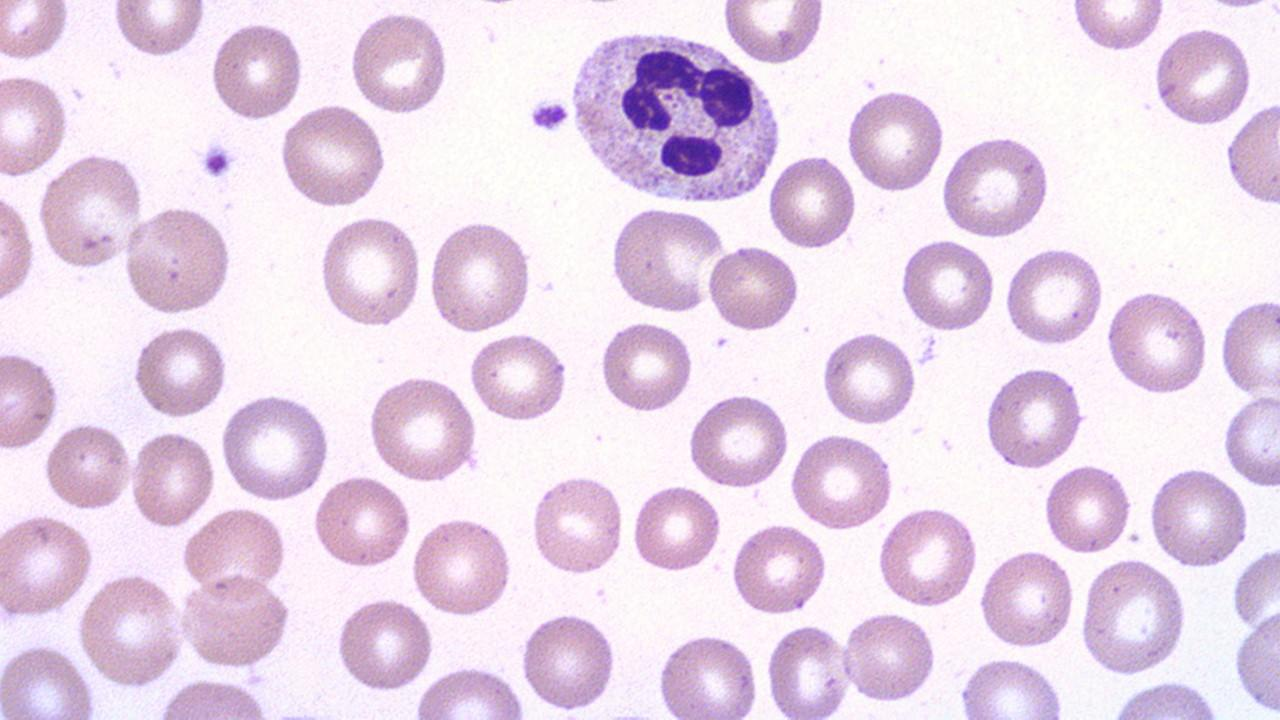Platelets: (526, 95, 573, 136), (197, 138, 238, 182), (916, 333, 940, 365)
RBC: (608, 201, 730, 316), (1077, 555, 1191, 677), (121, 201, 236, 319), (35, 152, 146, 271), (75, 572, 186, 688), (366, 371, 479, 484), (316, 212, 424, 330), (219, 392, 334, 502), (428, 216, 535, 334), (940, 132, 1054, 239), (278, 102, 391, 209), (178, 572, 296, 672), (1104, 287, 1210, 396), (982, 364, 1087, 472), (844, 85, 946, 196), (410, 513, 516, 619), (516, 608, 622, 713), (876, 503, 980, 610), (1146, 463, 1248, 572), (348, 8, 450, 116), (787, 430, 895, 532), (527, 470, 626, 579), (208, 18, 308, 125), (1002, 245, 1104, 349), (1150, 26, 1254, 128), (686, 390, 792, 490), (333, 594, 436, 694), (309, 472, 412, 572), (976, 548, 1076, 650), (818, 329, 919, 429), (0, 512, 95, 618), (728, 520, 830, 618), (129, 323, 232, 420), (179, 506, 289, 596), (896, 236, 998, 333), (655, 628, 763, 718), (840, 608, 939, 706), (764, 151, 860, 252), (182, 542, 291, 630), (466, 332, 572, 422), (598, 318, 696, 414), (628, 480, 723, 576), (128, 427, 217, 529), (1041, 460, 1135, 556), (706, 241, 802, 334), (42, 417, 133, 512), (764, 620, 852, 718), (0, 70, 71, 182), (0, 641, 98, 717), (954, 654, 1069, 717), (720, 1, 828, 68), (1217, 294, 1279, 403), (0, 347, 63, 454), (1223, 97, 1279, 212), (412, 662, 528, 716), (110, 1, 208, 61), (1230, 604, 1280, 716), (1069, 0, 1167, 56), (1221, 394, 1279, 487), (155, 677, 279, 718), (1106, 676, 1224, 718), (0, 1, 72, 66), (1229, 543, 1279, 636), (1, 184, 37, 307)
WBC: (564, 20, 782, 210)
